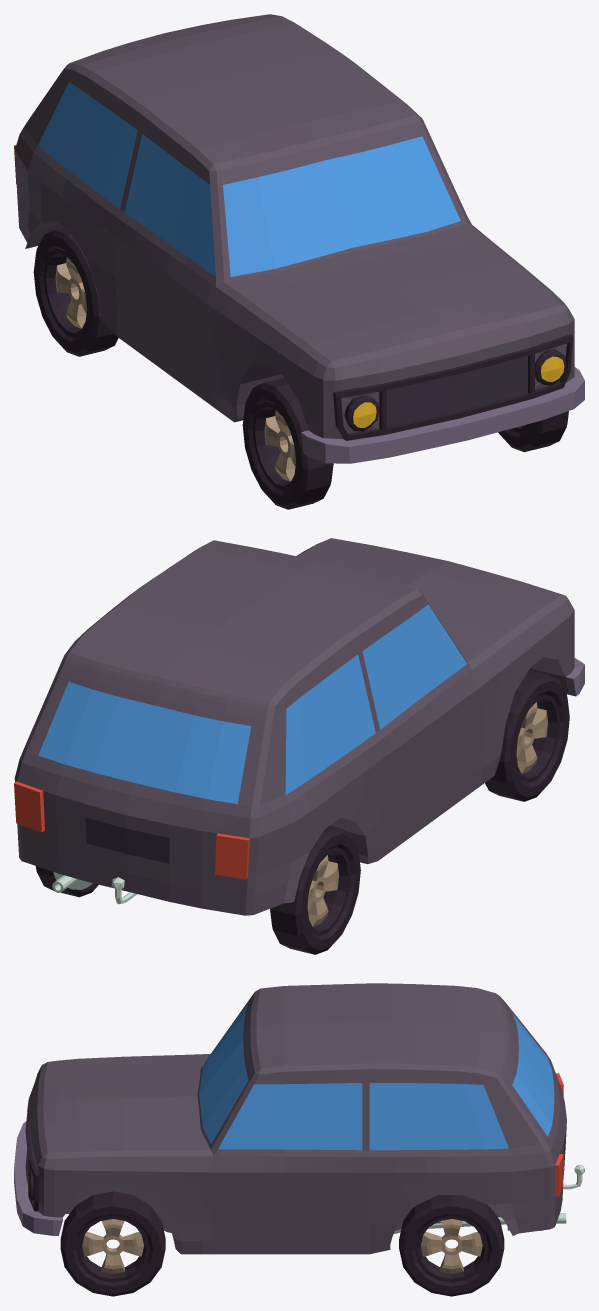
File: Нива.fbx
3 renders of one model, top to bottom at view 1: azimuth 30°, elevation 25°; view 2: azimuth 150°, elevation 25°; view 3: azimuth 270°, elevation 25°, orthographic. The views are drawn at different scales.
Visible parts, largest first — view 1: Кузов, Капот, Лобовое стекло, Дверь прав, Колесо перед правое, Окно правой двери, Заднее окно, Колесо заднее прав, Фары, Колесо перед лев; view 2: Кузов, Дверь багажника, Заднее стекло, Капот, Дверь прав, Заднее окно, Колесо заднее прав, Колесо перед правое, Окно правой двери, Колесо заднее лев; view 3: Кузов, Капот, Дверь лев, Заднее окно, Окно левой двери, Колесо перед лев, Колесо заднее лев, Лобовое стекло, Заднее стекло, Дверь багажника.
Boxes of the visible parts, x1,y1,x2,y2 form: Кузов: (14,14,584,463); Капот: (222,227,574,380); Лобовое стекло: (223,136,460,276); Дверь прав: (118,213,215,383); Колесо перед правое: (242,378,333,509); Окно правой двери: (124,134,215,276); Заднее окно: (38,82,137,208); Колесо заднее прав: (33,227,118,356); Фары: (344,349,566,431); Колесо перед лев: (498,411,568,452); Кузов: (14,540,584,915); Дверь багажника: (26,672,259,872); Заднее стекло: (38,682,251,804); Капот: (296,538,574,673); Дверь прав: (380,664,479,833); Заднее окно: (285,654,375,794); Колесо заднее прав: (270,825,360,954); Колесо перед правое: (485,670,569,801); Окно правой двери: (362,604,466,729); Колесо заднее лев: (35,866,98,897); Кузов: (14,983,564,1254); Капот: (29,1054,203,1171); Дверь лев: (212,1149,362,1235); Заднее окно: (369,1083,508,1150); Окно левой двери: (218,1083,362,1150); Колесо перед лев: (60,1191,165,1296); Колесо заднее лев: (399,1195,504,1296); Лобовое стекло: (199,1002,248,1144); Заднее стекло: (512,1013,554,1136); Дверь багажника: (507,1007,566,1167).
Bounding box in the file's own units: 174 × 168 × 389.
